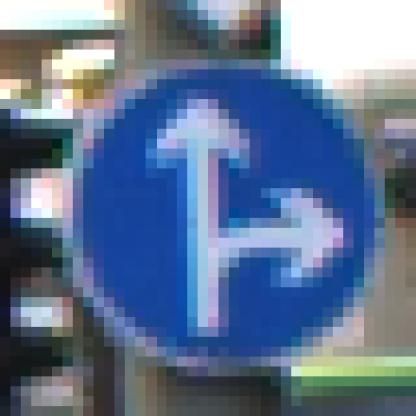Straight or Right: (53, 51, 355, 368)
